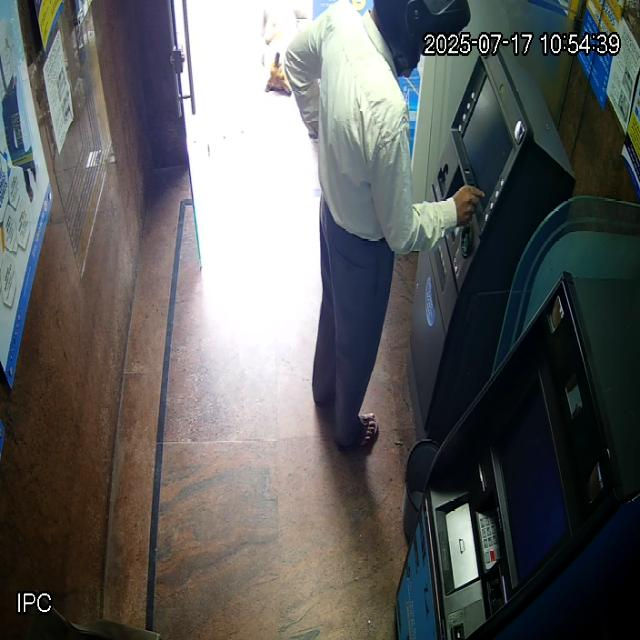helmet: (370, 0, 471, 78)
